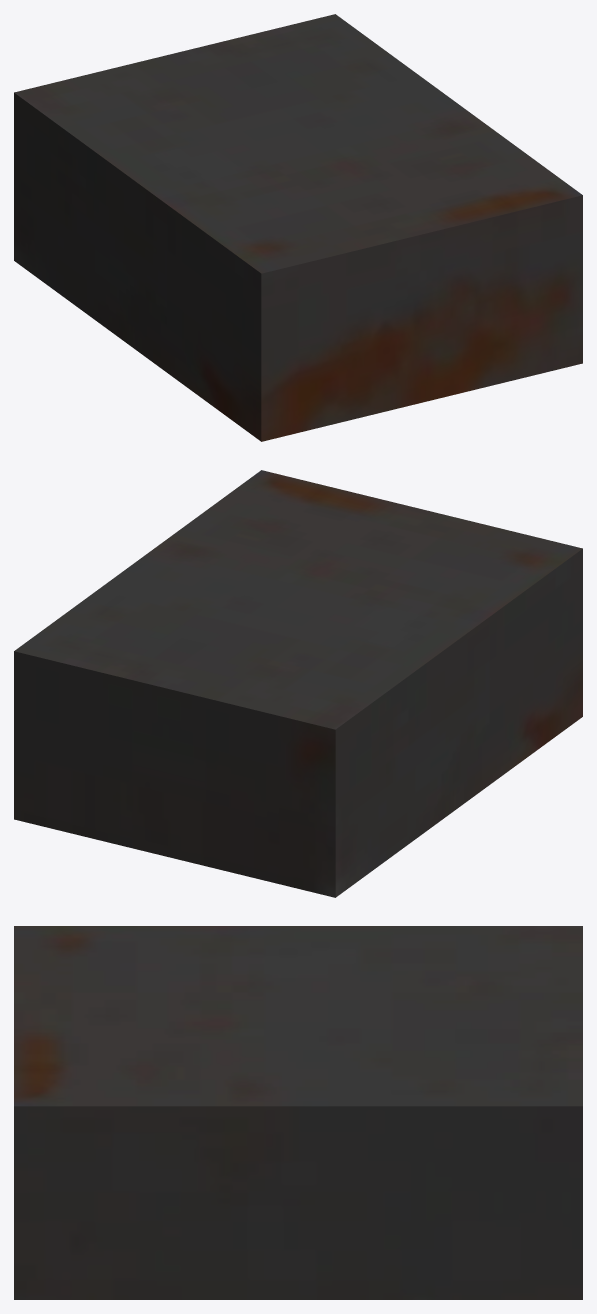
File: frame__wheel_bracket_1.glb
3 renders of one model, top to bottom at view 1: azimuth 30°, elevation 25°; view 2: azimuth 150°, elevation 25°; view 3: azimuth 270°, elevation 25°, orthographic. The views are drawn at different scales.
Visible parts, largest first — view 1: geometry_0; view 2: geometry_0; view 3: geometry_0.
Part boxes in pixels (left/top/right/bottom): geometry_0: left=14, top=14, right=582, bottom=441; geometry_0: left=14, top=470, right=582, bottom=897; geometry_0: left=14, top=926, right=582, bottom=1299.
Bounding box in the file's own units: 0.06 × 0.03 × 0.08.
Materials: 1 (1 with a texture image).
